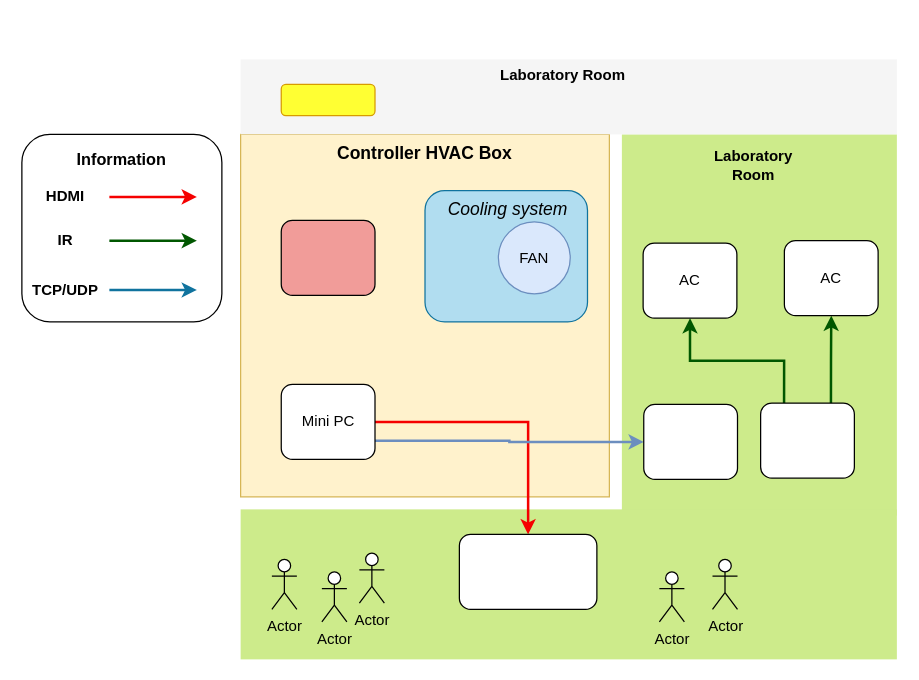
Image size: 919x680. Some labels were removed from this diagram. Here are the shapes that lost their labels. From the top down, the centre of each, then its label:
the point at 327,99: 220V
the point at 327,257: Adaptor 12V
the point at 690,441: Thermal Camera
the point at 806,440: Universal Remote
the point at 527,571: LCD Display / UI control
